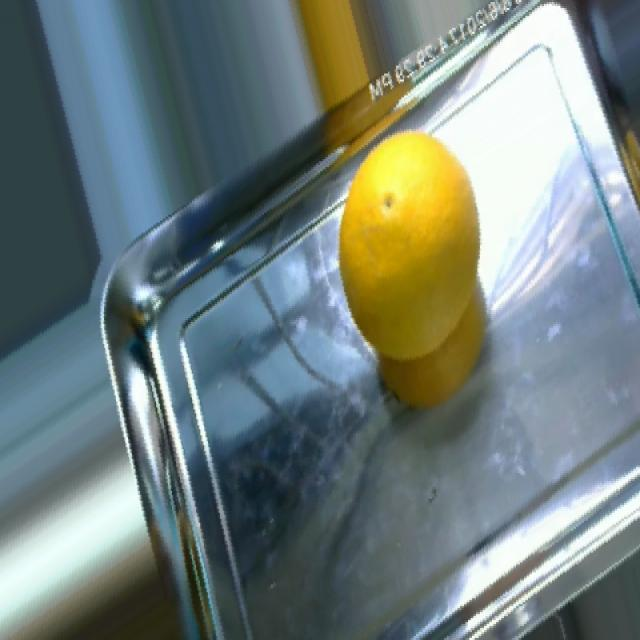Fruit: (325, 116, 495, 420), (275, 0, 385, 125)
